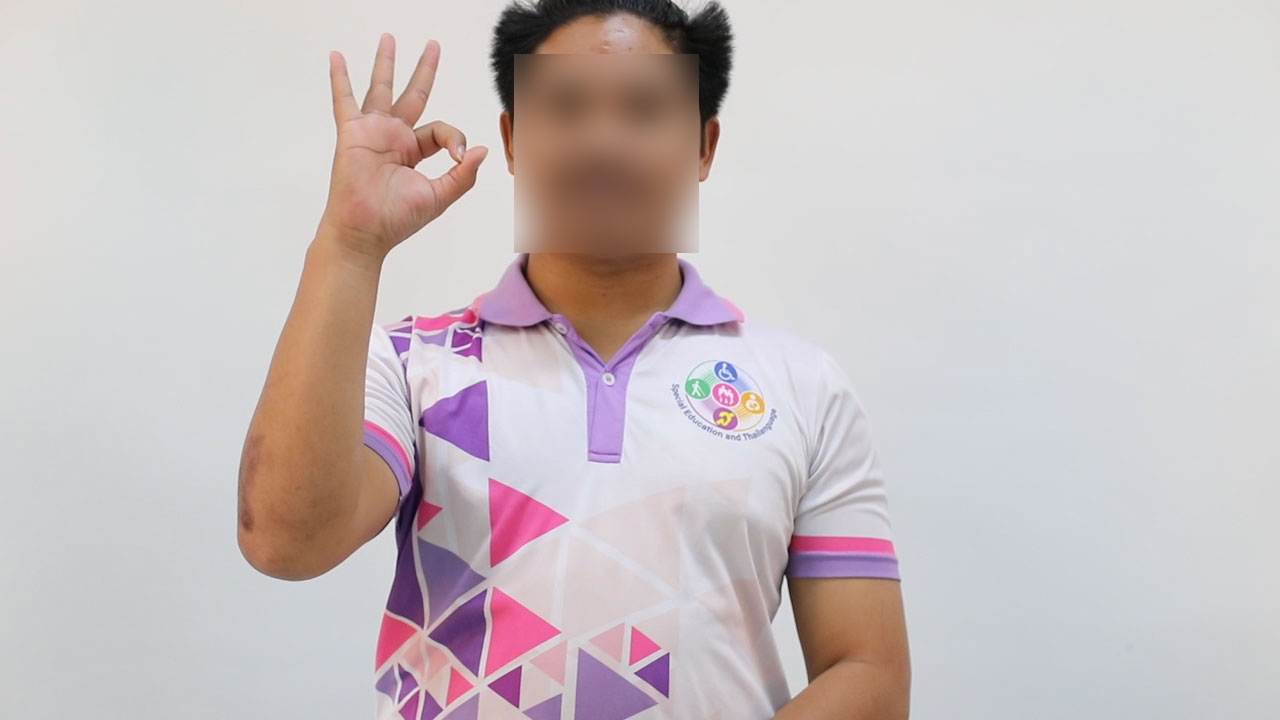for: (285, 23, 498, 259)
